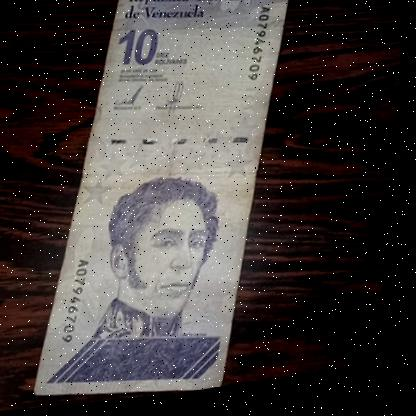ten-front-vef: (21, 0, 311, 412)
